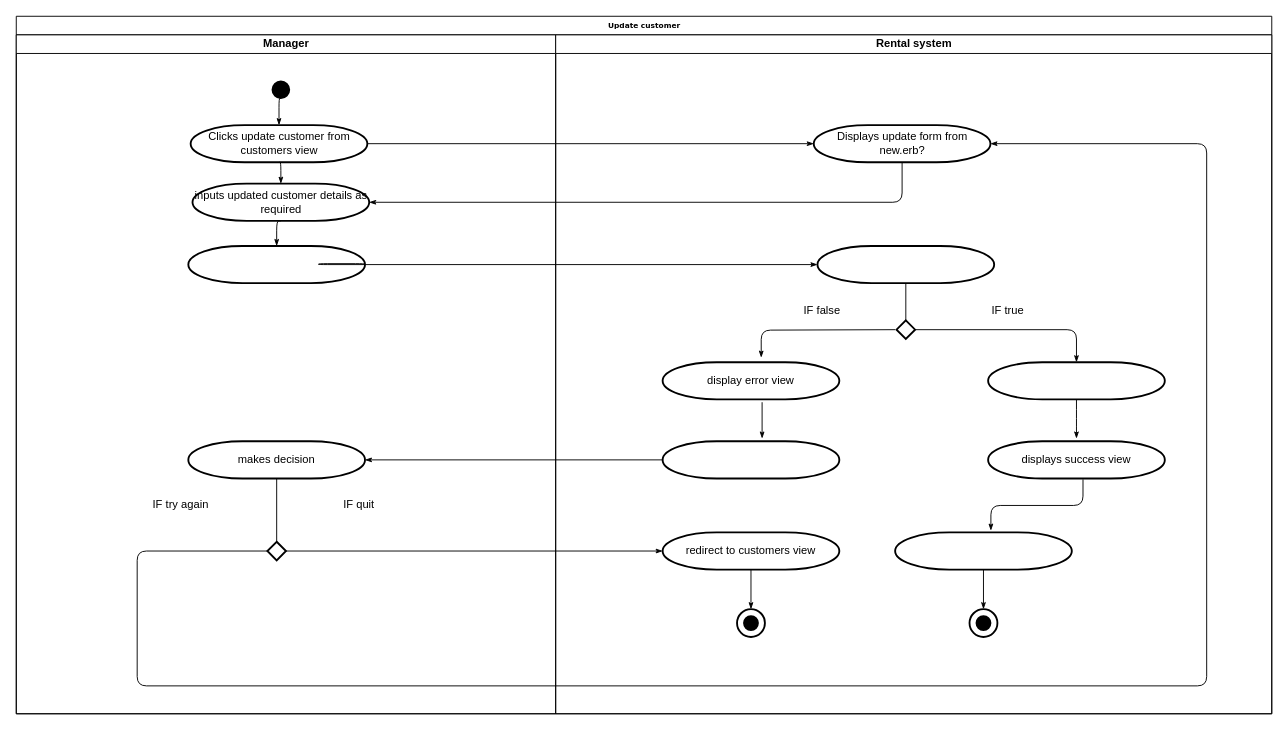
Image size: 1288x730. Some labels were removed from this diagram. Here are the shapes that lost their labels. From the top down, the box of each, then its label:
(187, 245, 365, 284): clicks submit button
(816, 245, 995, 284): confirms customer exists in db
(987, 361, 1165, 400): passes updated Customer object to db
(661, 440, 840, 479): prompt user to try again or quit
(894, 531, 1072, 570): redirects to stock view
